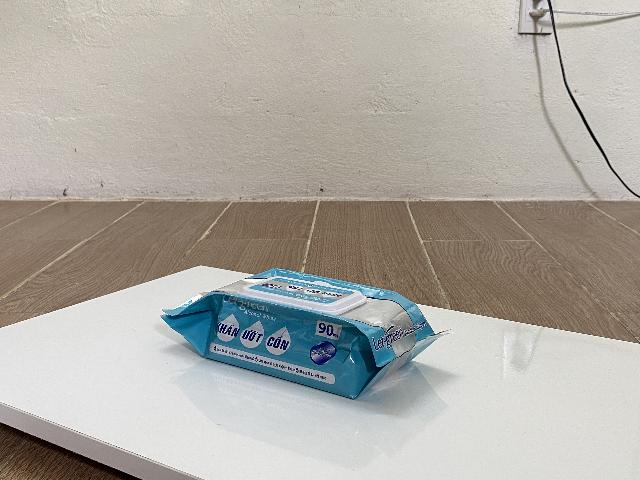Let-green_alcohol_wipes: (160, 267, 454, 401)
